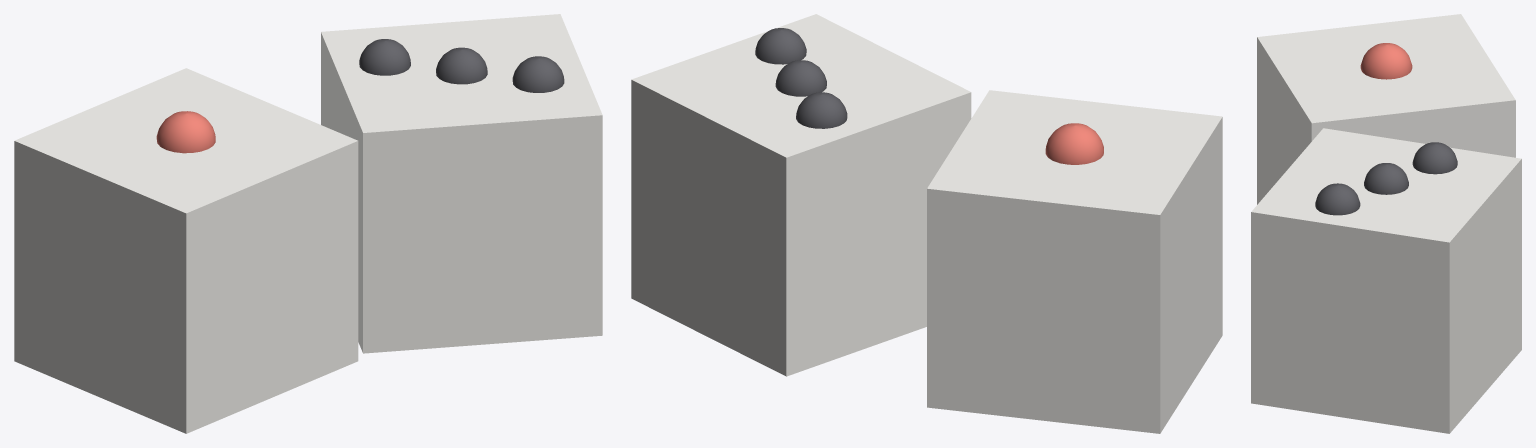
Rendered from hai_hot.glb.
The picture shows the model from 3 angles, left to right: view 1: azimuth 30°, elevation 25°; view 2: azimuth 150°, elevation 25°; view 3: azimuth 270°, elevation 25°; orthographic projection. The views are drawn at different scales.
Visible parts, largest first — view 1: Box1, Box2, Sph1, Sph4, Sph2, Sph3; view 2: Box1, Box2, Sph1, Sph2, Sph4, Sph3; view 3: Box2, Box1, Sph1, Sph4, Sph2, Sph3.
Boxes of the visible parts, <box> form: Box1: <box>14,68,358,433</box>; Box2: <box>321,14,602,353</box>; Sph1: <box>156,111,215,153</box>; Sph4: <box>512,56,564,92</box>; Sph2: <box>359,39,410,75</box>; Sph3: <box>436,47,487,84</box>; Box1: <box>927,90,1222,433</box>; Box2: <box>631,14,971,376</box>; Sph1: <box>1045,123,1103,164</box>; Sph2: <box>796,92,847,128</box>; Sph4: <box>755,28,806,64</box>; Sph3: <box>775,60,826,96</box>; Box2: <box>1251,128,1521,433</box>; Box1: <box>1257,14,1515,204</box>; Sph1: <box>1360,43,1412,79</box>; Sph4: <box>1315,183,1360,215</box>; Sph2: <box>1412,142,1457,174</box>; Sph3: <box>1364,163,1408,194</box>.
Size of the model in its own units: 0.3329 by 0.146 by 0.1666.
